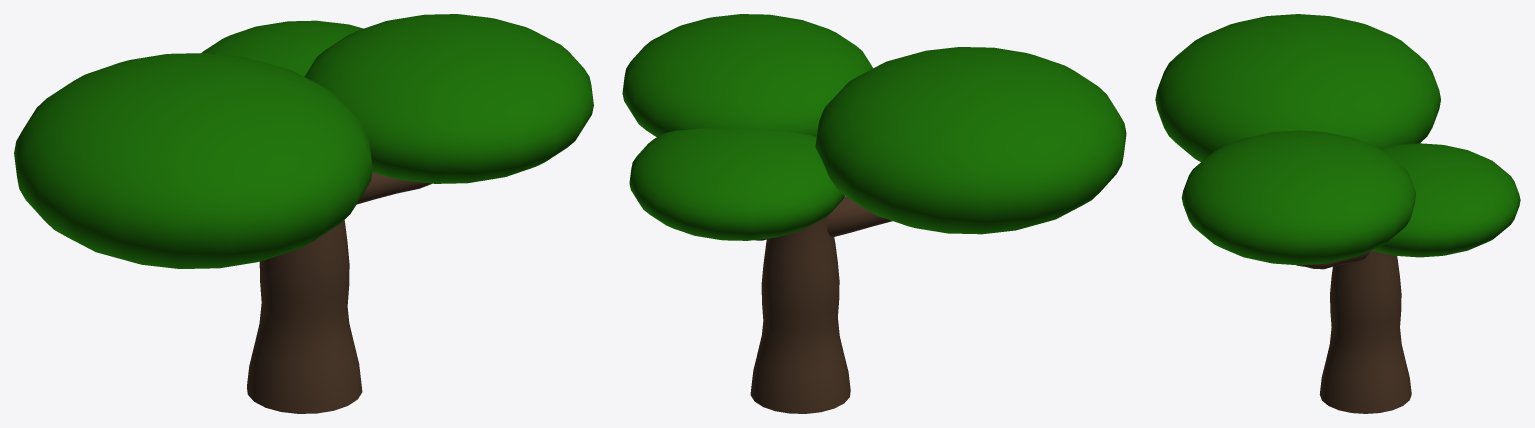
File: Arbol 2.fbx
The picture shows the model from 3 angles, left to right: view 1: azimuth 30°, elevation 25°; view 2: azimuth 150°, elevation 25°; view 3: azimuth 270°, elevation 25°; orthographic projection. The views are drawn at different scales.
Visible parts, largest first — view 1: Arbol_3; view 2: Arbol_3; view 3: Arbol_3.
Part boxes in pixels (left/top/right/bottom): Arbol_3: left=14, top=14, right=593, bottom=413; Arbol_3: left=622, top=14, right=1126, bottom=413; Arbol_3: left=1155, top=14, right=1520, bottom=413.
Size of the model in its own units: 29.28 by 19.45 by 21.73.
